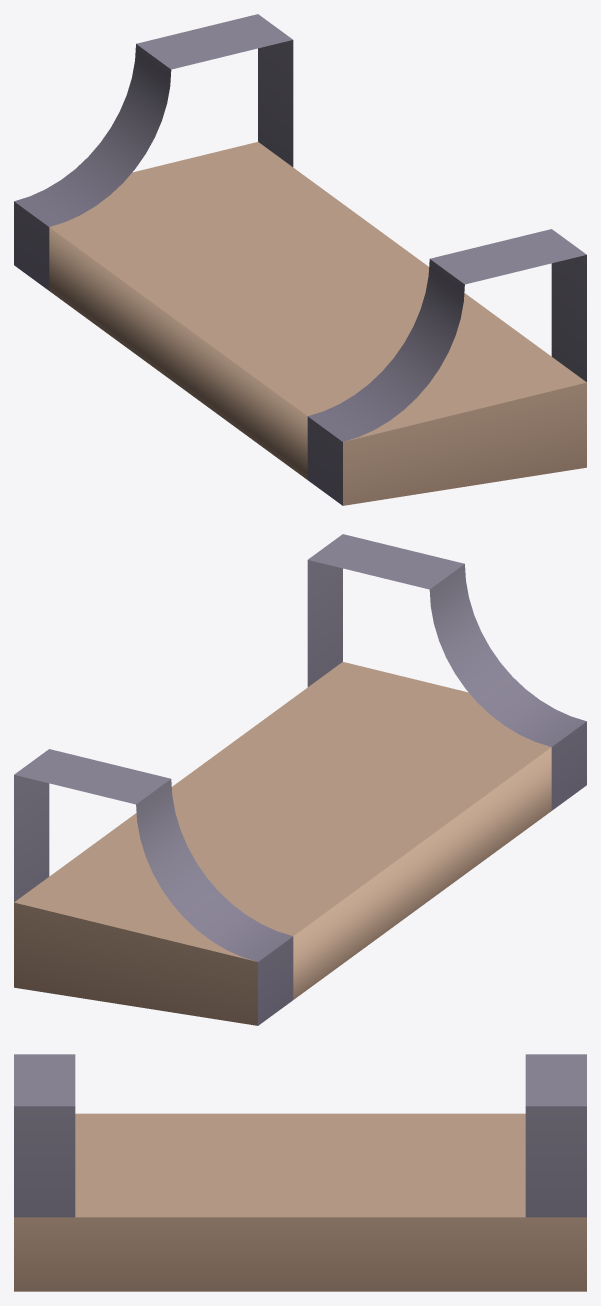
File: shelf-hanging-decorative-short (%wall)_0.glb
3 renders of one model, top to bottom at view 1: azimuth 30°, elevation 25°; view 2: azimuth 150°, elevation 25°; view 3: azimuth 270°, elevation 25°, orthographic. The views are drawn at different scales.
Visible parts, largest first — view 1: shelf-hanging-decorative-short (%wall); view 2: shelf-hanging-decorative-short (%wall); view 3: shelf-hanging-decorative-short (%wall).
Part boxes in pixels (x1,y1,x2,y2): shelf-hanging-decorative-short (%wall): (14,14,586,505); shelf-hanging-decorative-short (%wall): (14,534,586,1025); shelf-hanging-decorative-short (%wall): (14,1054,586,1291).
Size of the model in its own units: 0.3 by 0.25 by 0.7.
